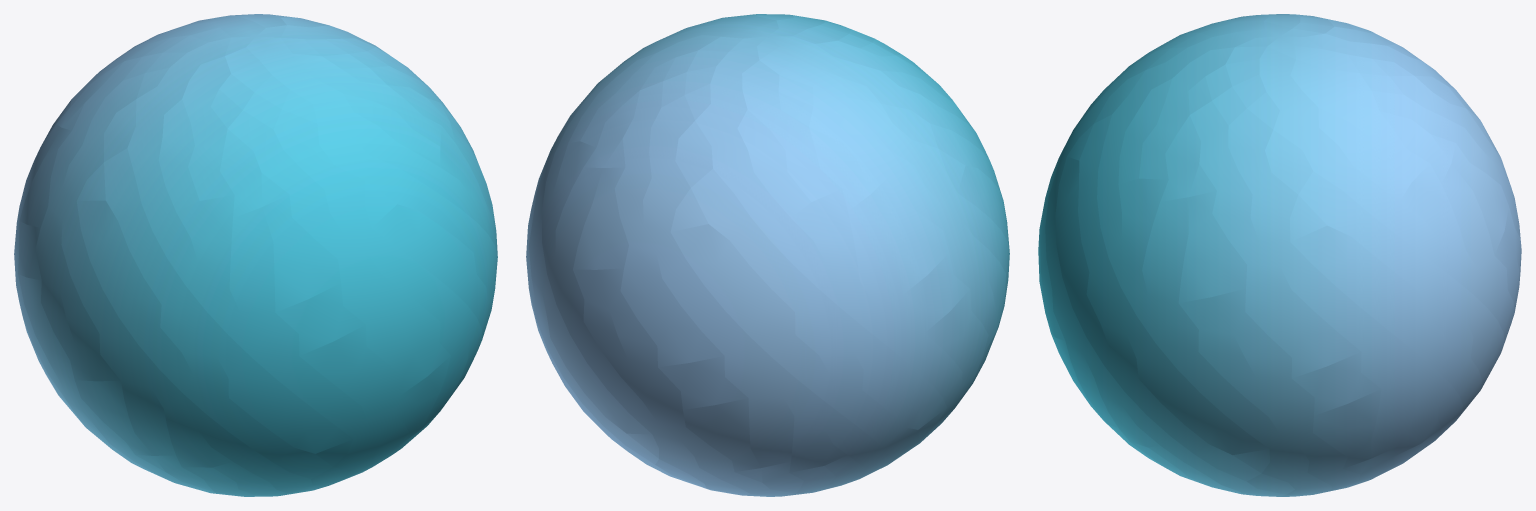
3 renders of one model, left to right at view 1: azimuth 30°, elevation 25°; view 2: azimuth 150°, elevation 25°; view 3: azimuth 270°, elevation 25°, orthographic.
Parts seen in each view (by area): view 1: Sphere; view 2: Sphere; view 3: Sphere.
Boxes of the visible parts, box(x1,y1,x2,y2) form: Sphere: box(14, 14, 497, 496); Sphere: box(526, 14, 1009, 496); Sphere: box(1038, 14, 1521, 496).
Bounding box in the file's own units: 10 × 10 × 10.
1 material, 1 textured.
